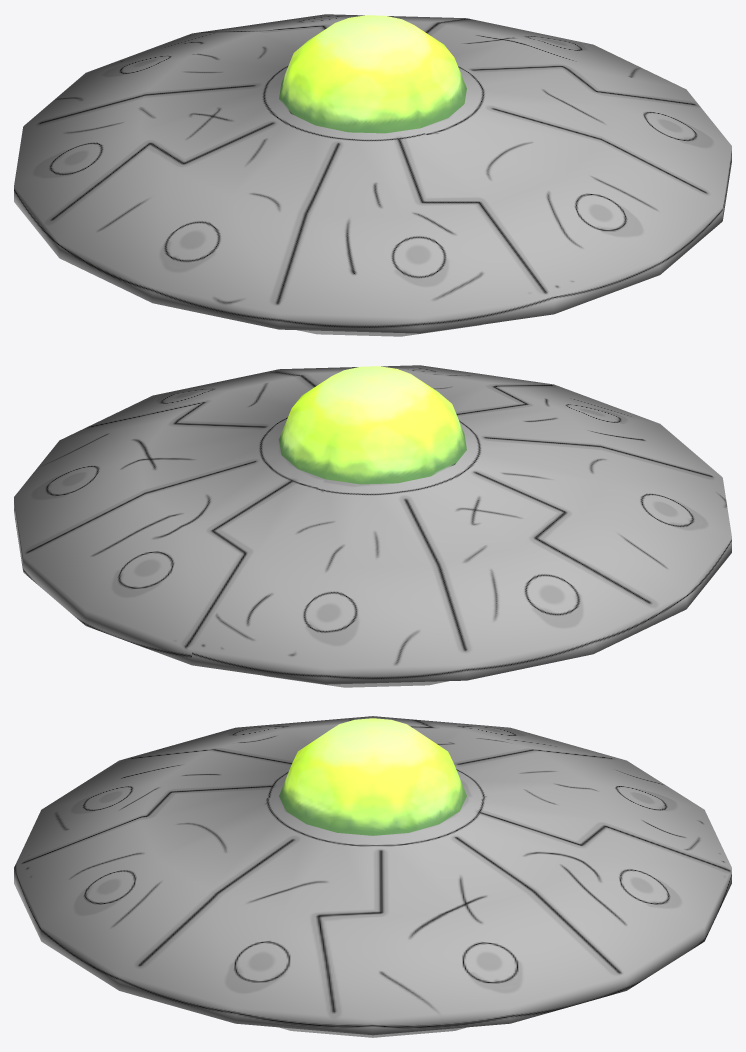
File: LowPolyUFO.fbx
3 renders of one model, top to bottom at view 1: azimuth 30°, elevation 25°; view 2: azimuth 150°, elevation 25°; view 3: azimuth 270°, elevation 25°, orthographic.
Parts seen in each view (by area): view 1: UFO; view 2: UFO; view 3: UFO.
Boxes of the visible parts, x1,y1,x2,y2 form: UFO: (14, 14, 731, 336); UFO: (14, 365, 731, 687); UFO: (14, 716, 731, 1037).
Size of the model in its own units: 200 by 74.43 by 200.
